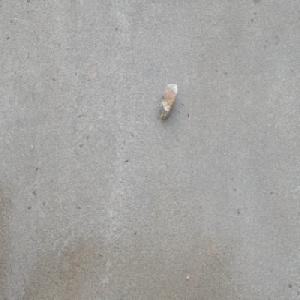Rock: (158, 81, 177, 120)
